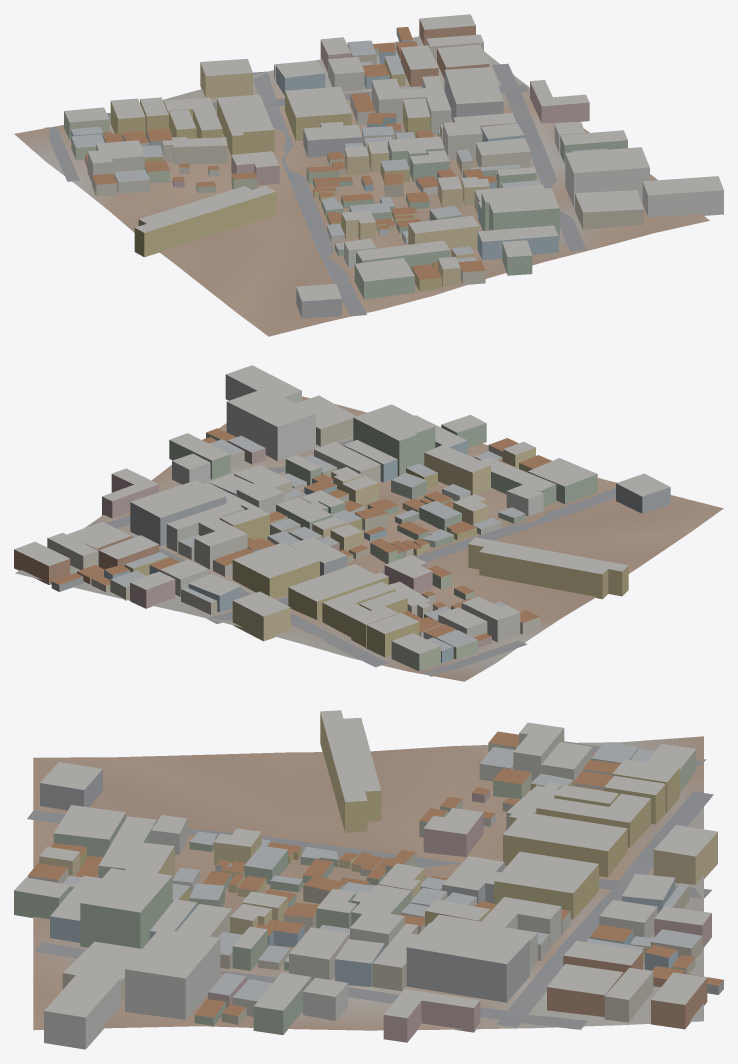
3 views of the same model, one above another, from view 1: azimuth 30°, elevation 25°; view 2: azimuth 150°, elevation 25°; view 3: azimuth 270°, elevation 25° (orthographic). The views are drawn at different scales.
Parts seen in each view (by area): view 1: Lo; view 2: Lo; view 3: Lo.
Boxes of the visible parts, x1,y1,x2,y2 form: Lo: [14, 14, 723, 336]; Lo: [14, 365, 723, 681]; Lo: [14, 710, 723, 1049].
Size of the model in its own units: 282 by 23.93 by 271.
